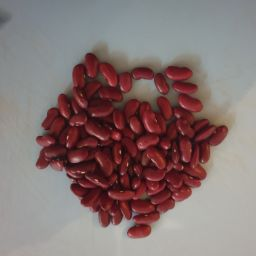Pinto Beans (kidney beans): (6, 40, 236, 242), (152, 141, 213, 212), (127, 65, 199, 123), (57, 42, 120, 95), (66, 173, 127, 222), (186, 118, 231, 184), (33, 129, 84, 178), (117, 111, 170, 157), (117, 196, 161, 244), (44, 98, 90, 143)
